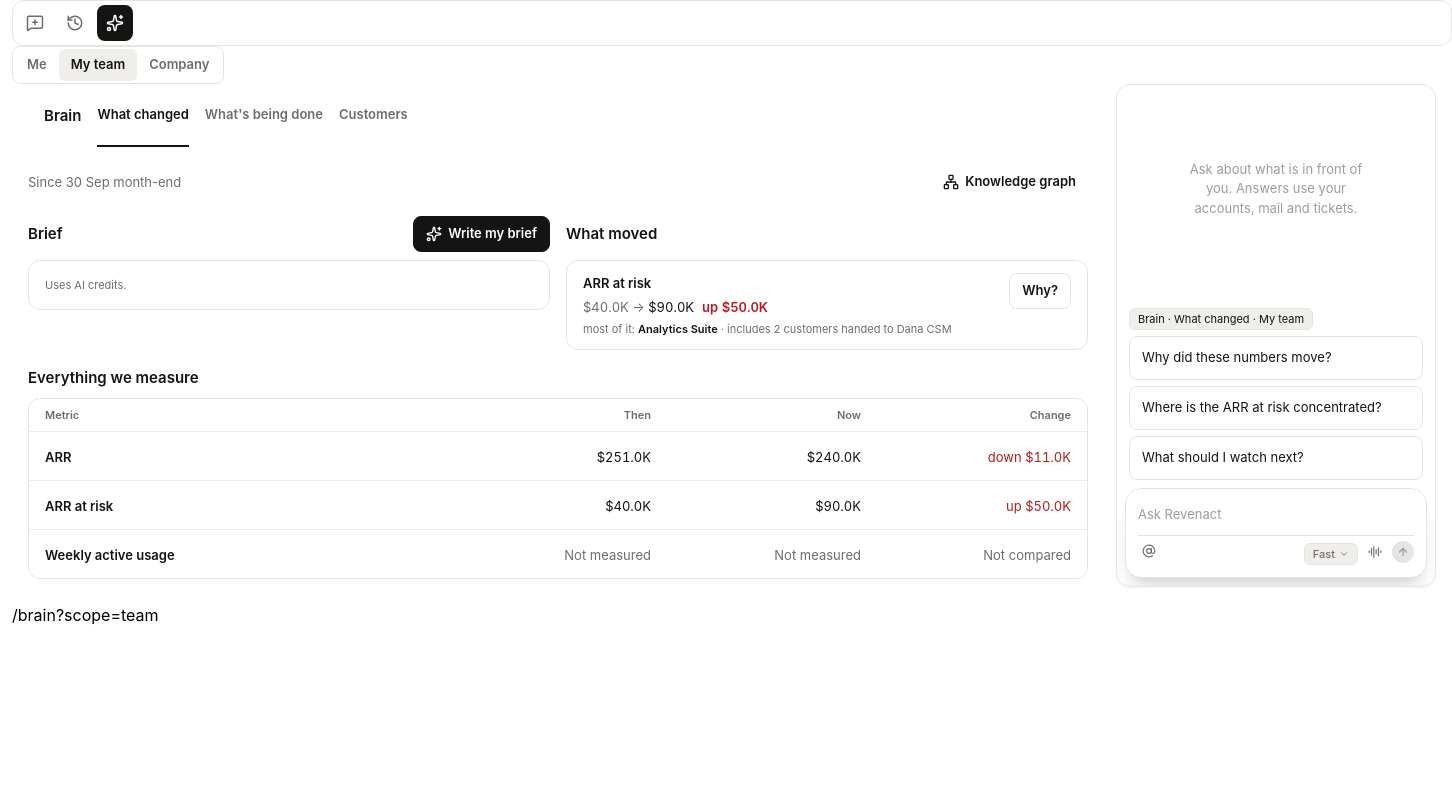
Test case: Ask on the Brain: the starters › offers What changed's three on an empty thread, sends the one pressed, and offers them again on New chat
The image size is (1452, 810).
Click the button "Where is the ARR at risk concentrated?": [1276, 408] box [1129,386,1423,430]
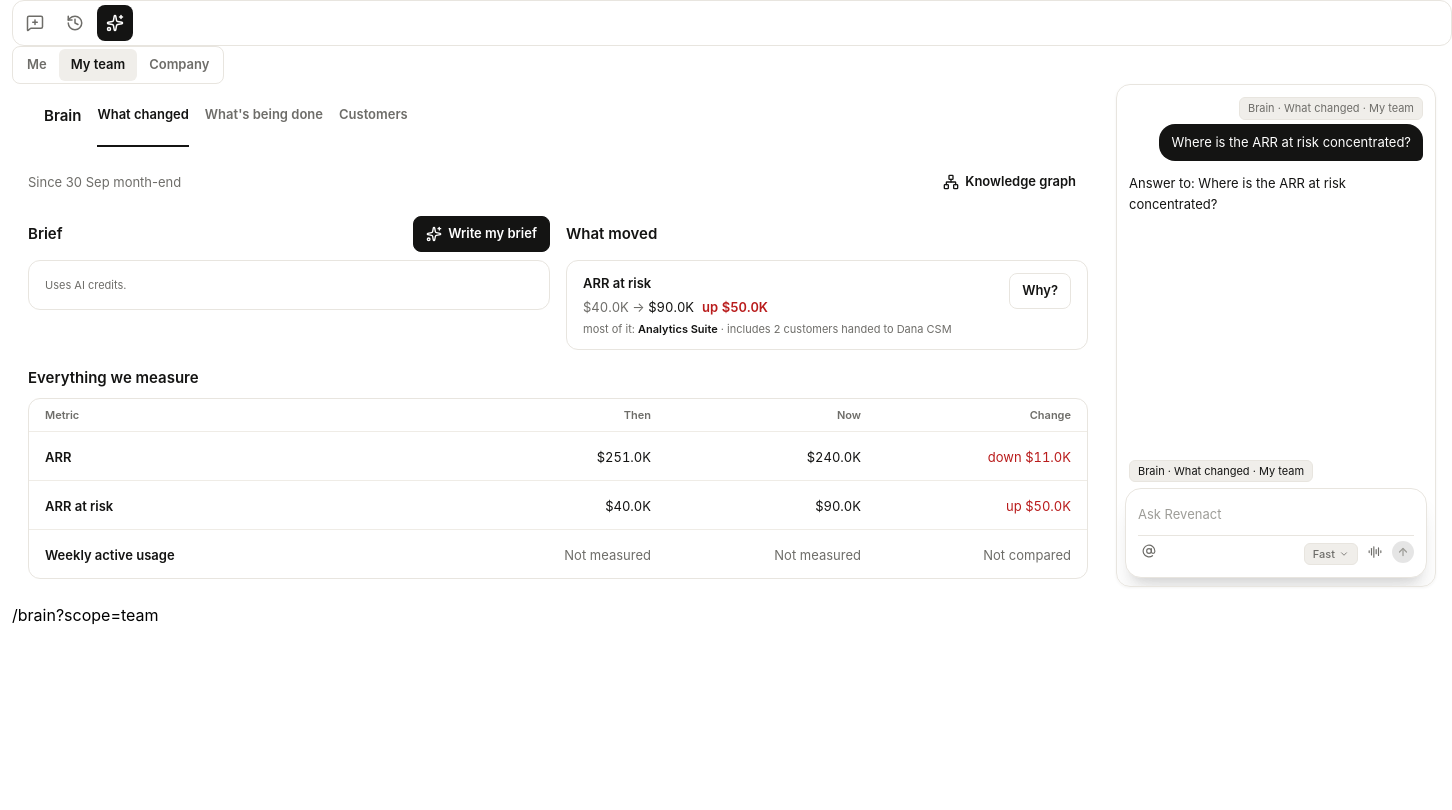
Expected: the text "Answer to: Where is the ARR at risk concentrated?" is shown, [1129,175,1350,212]
Click the button named "New chat": [35, 23] box [17,5,53,41]
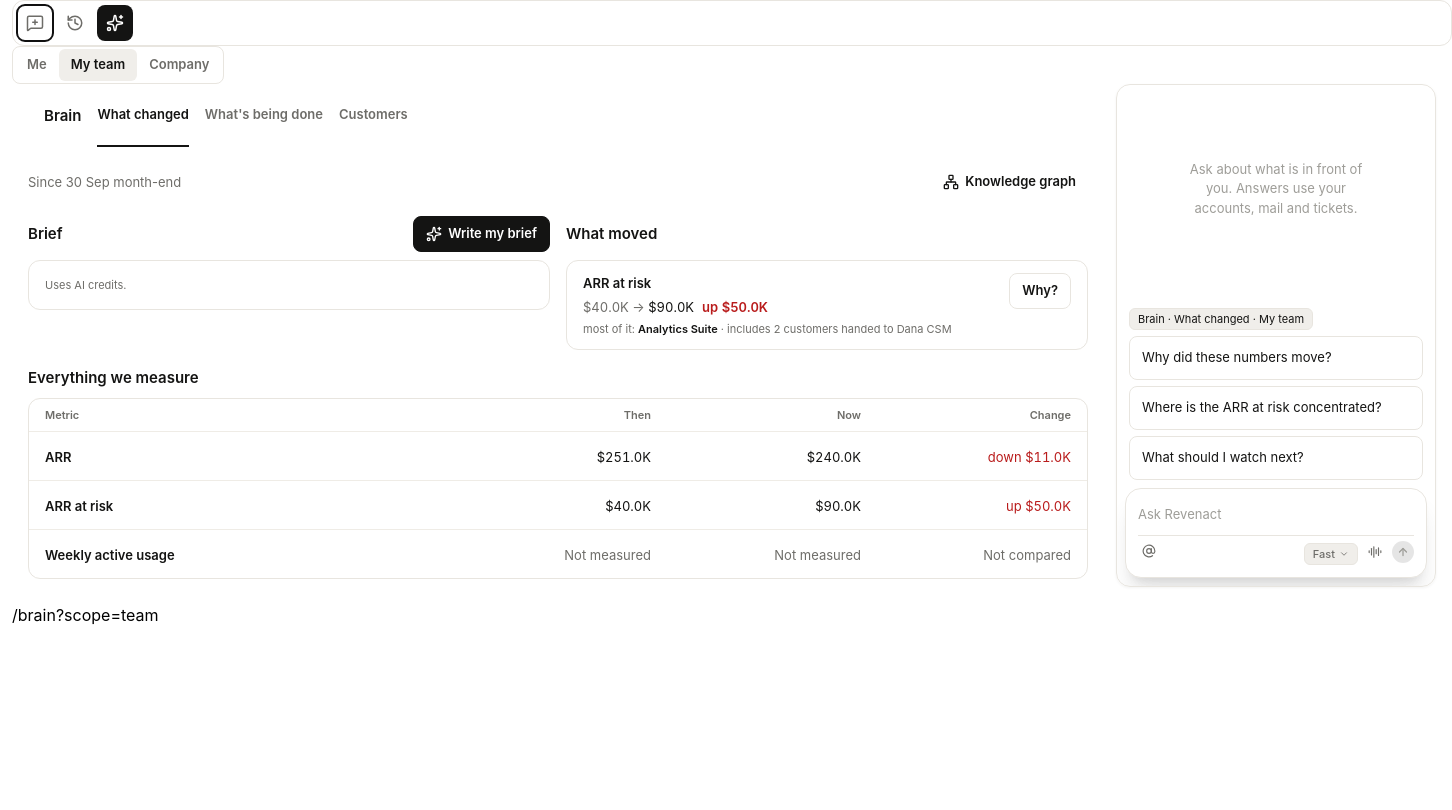
Expected: the list named "Suggested questions" is shown, [1125,336,1427,488]
